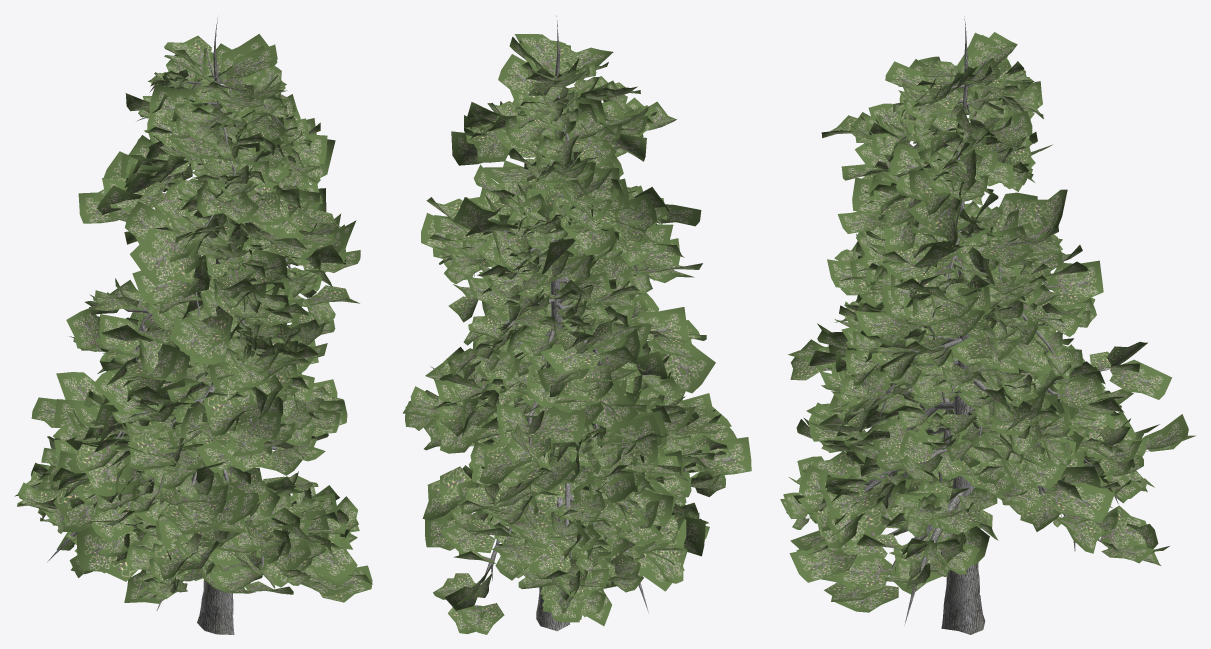
Rendered from SM_Birch_Summer.fbx.
3 renders of one model, left to right at view 1: azimuth 30°, elevation 25°; view 2: azimuth 150°, elevation 25°; view 3: azimuth 270°, elevation 25°, orthographic.
Parts seen in each view (by area): view 1: SM_Birch_Summer_LOD0; view 2: SM_Birch_Summer_LOD0; view 3: SM_Birch_Summer_LOD0.
Boxes of the visible parts, <box> form: SM_Birch_Summer_LOD0: <box>14,18,372,634</box>; SM_Birch_Summer_LOD0: <box>403,15,751,634</box>; SM_Birch_Summer_LOD0: <box>780,16,1195,634</box>.
Size of the model in its own units: 740 by 953 by 1546.
Materials: 2 (2 with a texture image).
